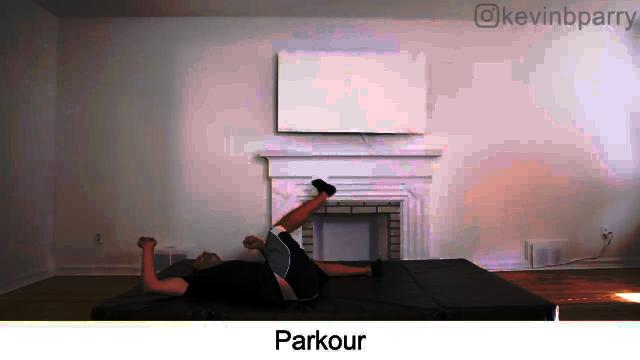jatuh: (127, 170, 397, 310)
